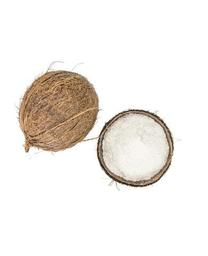coconut: (17, 71, 99, 151), (96, 109, 174, 186)
